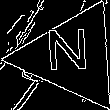N_S: (47, 30, 95, 83)
